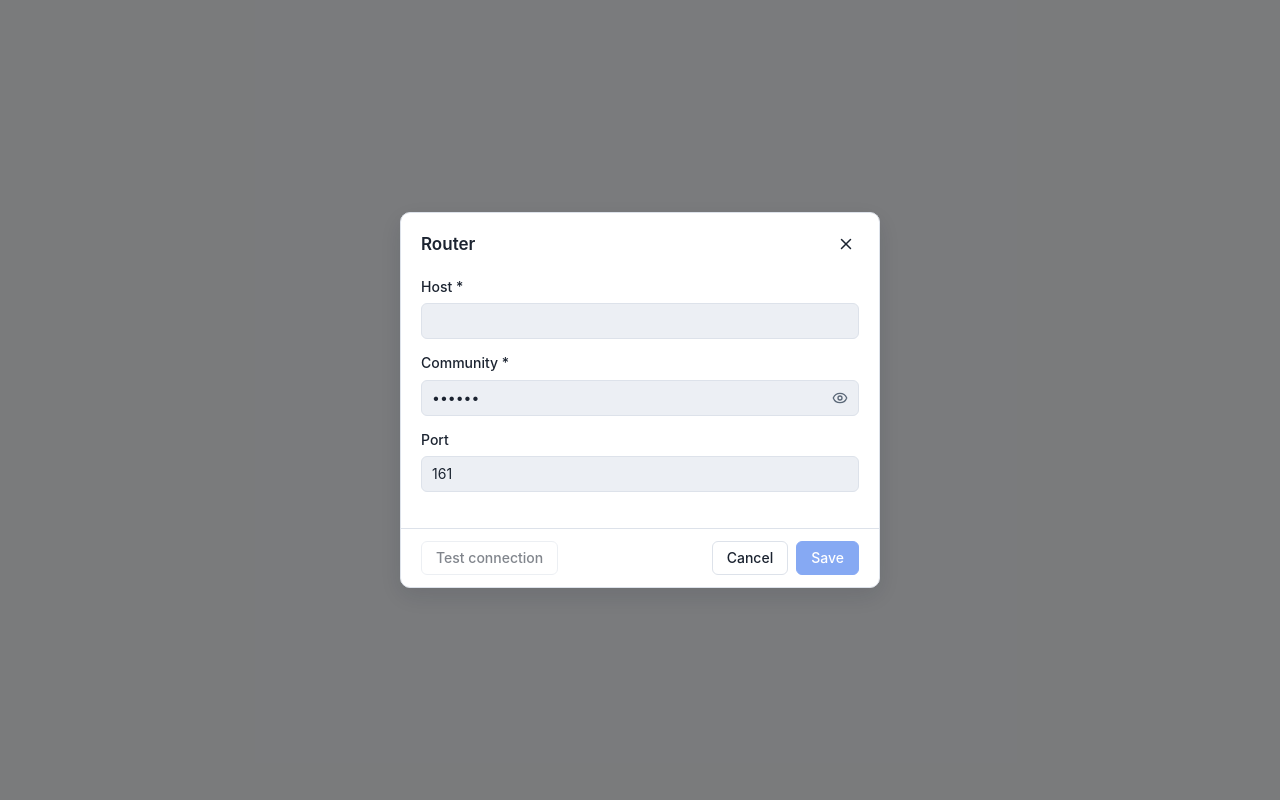
Test: IntegrationForm › cannot be saved until required fields are filled
The image size is (1280, 800).
Check: the submit button is disabled, box [796,541,859,575]
Type "192.168.1.2" into the field named "host". click: (640, 321)
box: [421,303,859,339]
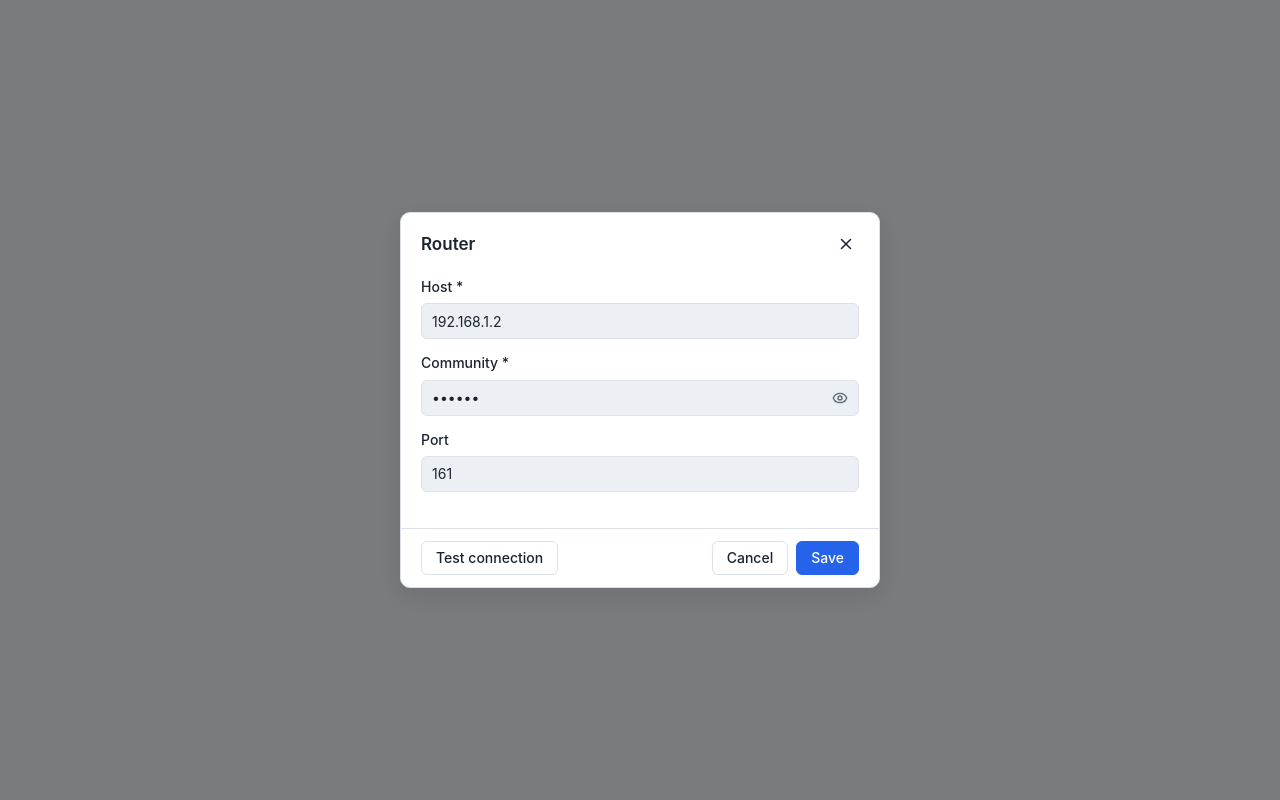
Check: the submit button is enabled, box [796,541,859,575]
